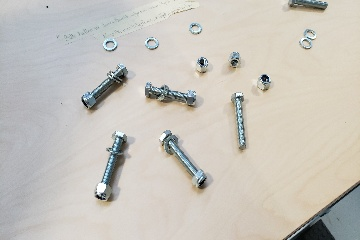Bolt: (229, 91, 250, 151)
FalseAssembly: (155, 128, 211, 192), (88, 132, 132, 202)
FinishedAssembly: (77, 61, 131, 113), (140, 79, 201, 112)
Nut: (255, 73, 273, 91), (194, 56, 210, 73), (227, 52, 242, 67)
Washer: (101, 37, 118, 52), (144, 36, 160, 51), (188, 21, 203, 35), (299, 36, 313, 49), (303, 28, 318, 40)
